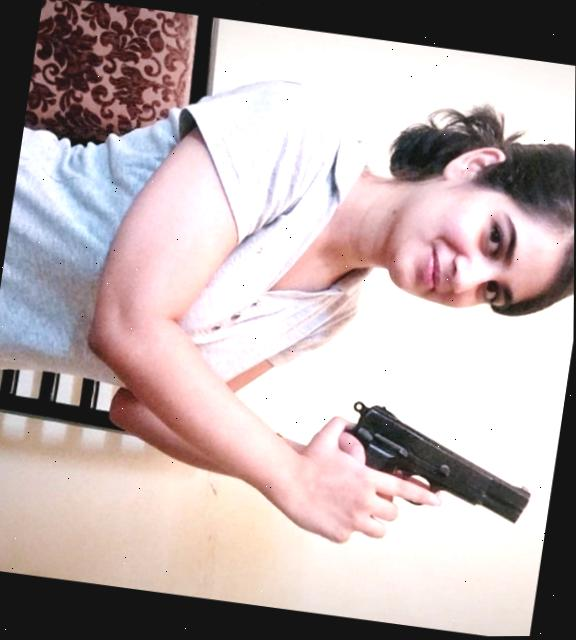pistol: (254, 375, 553, 584)
